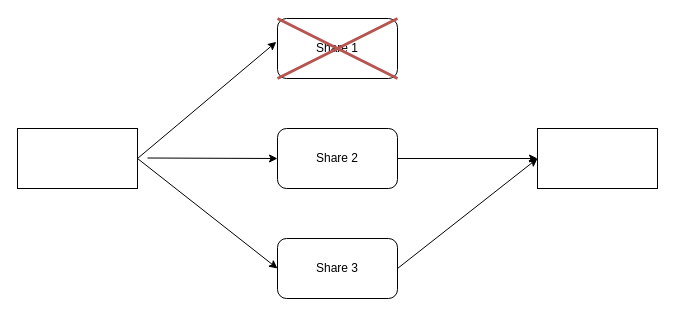
Image size: 675x316. Some labels were removed from this diagram. The shapes that lost their labels are listed below. From the top down, each one's box as (x1, y1, x2, y2) in pixels, then its label:
(16, 128, 138, 188): Secret
(536, 128, 658, 188): Original Secret
